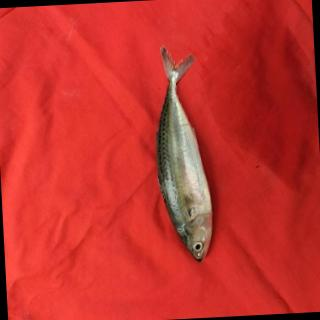Ikan: (132, 33, 236, 275)
